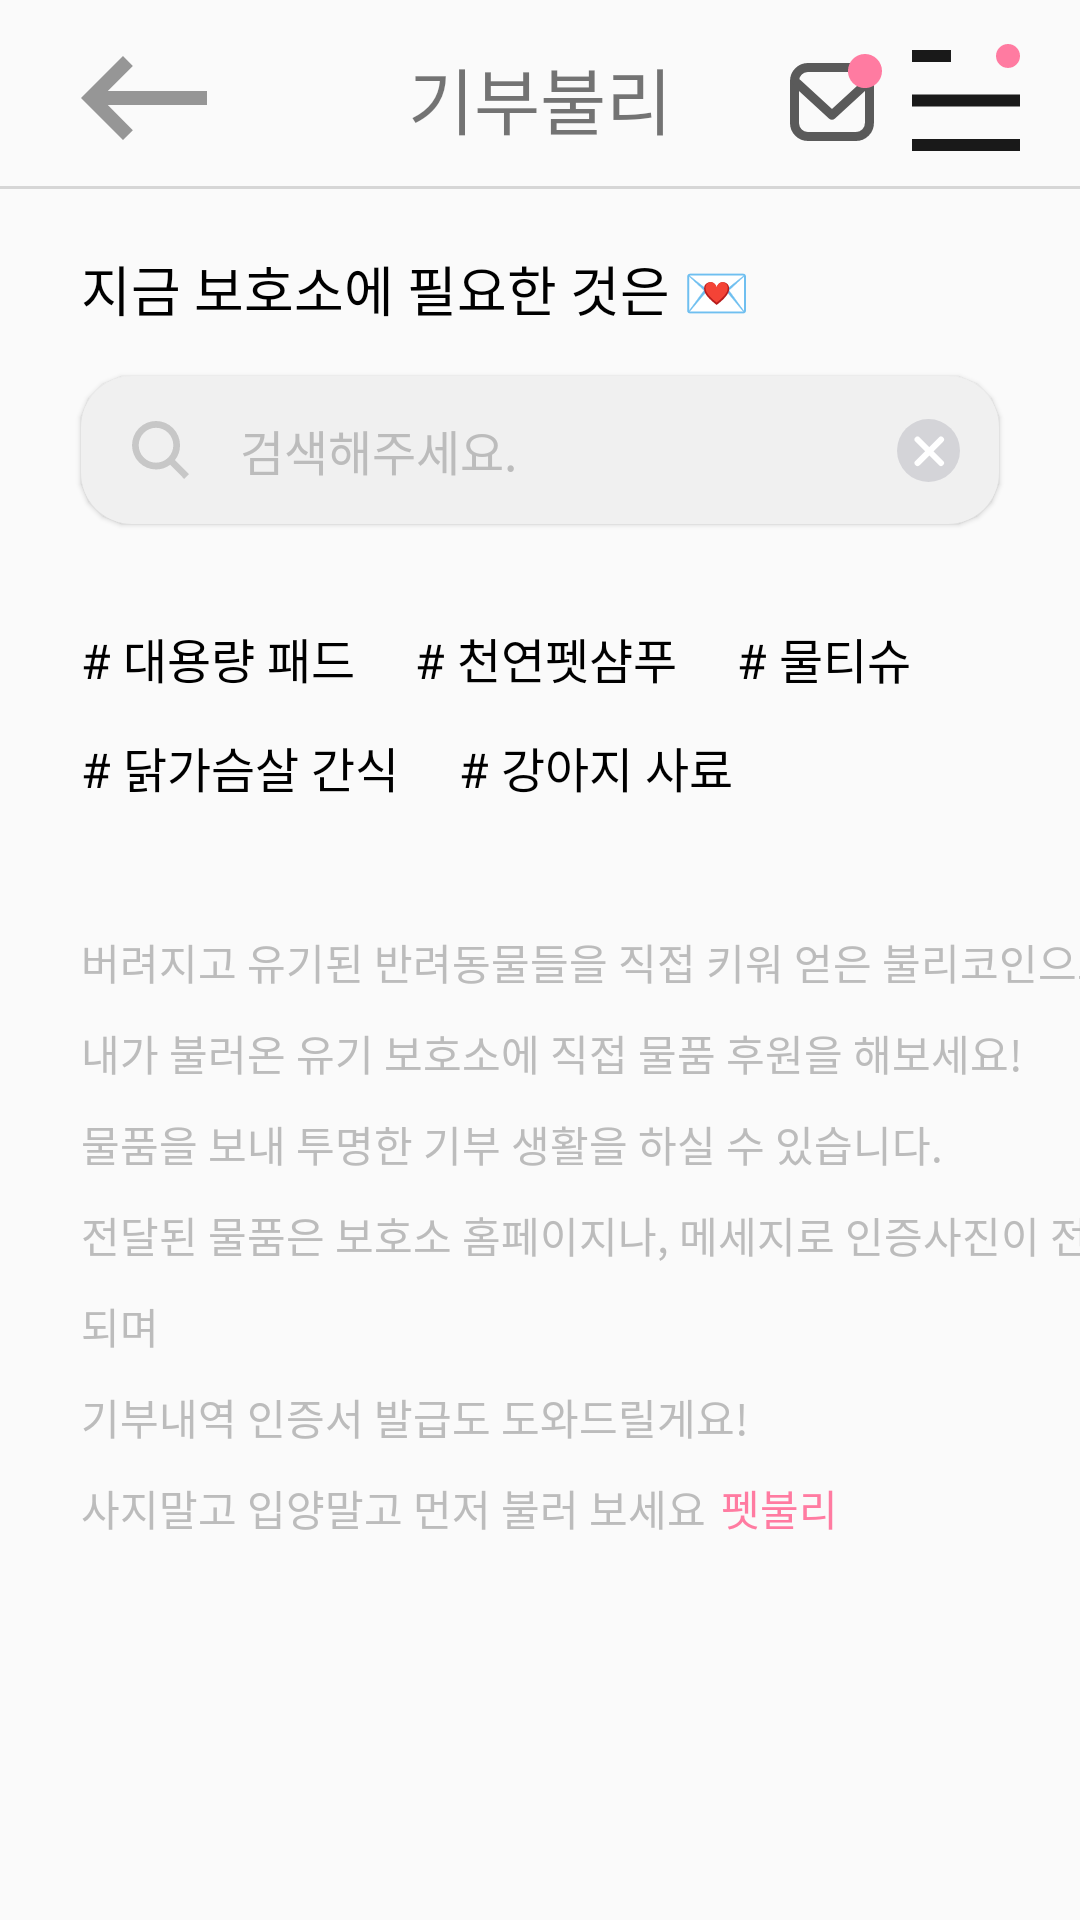

Icons on this 1080×1920 Android screen, each with the point to tap as point (x, y):
back: point (144, 98)
cancel: point (928, 450)
menu: point (966, 97)
search: point (160, 450)
